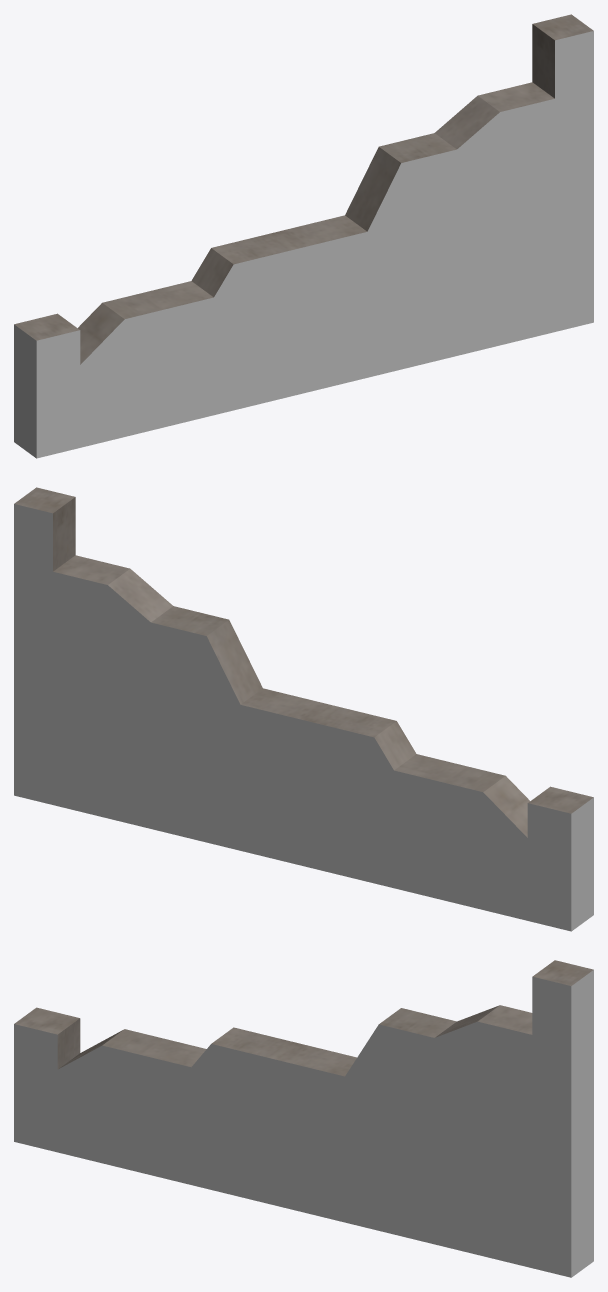
File: wallBroken_typeB.fbx
The picture shows the model from 3 angles, top to bottom: view 1: azimuth 30°, elevation 25°; view 2: azimuth 150°, elevation 25°; view 3: azimuth 330°, elevation 25°; orthographic projection.
Visible parts, largest first — view 1: wallBroken_typeB; view 2: wallBroken_typeB; view 3: wallBroken_typeB.
Part boxes in pixels (x1,y1,x2,y2): wallBroken_typeB: [14, 14, 593, 458]; wallBroken_typeB: [14, 487, 593, 931]; wallBroken_typeB: [14, 960, 593, 1277].
Bounding box in the file's own units: 10 × 5 × 0.7.
